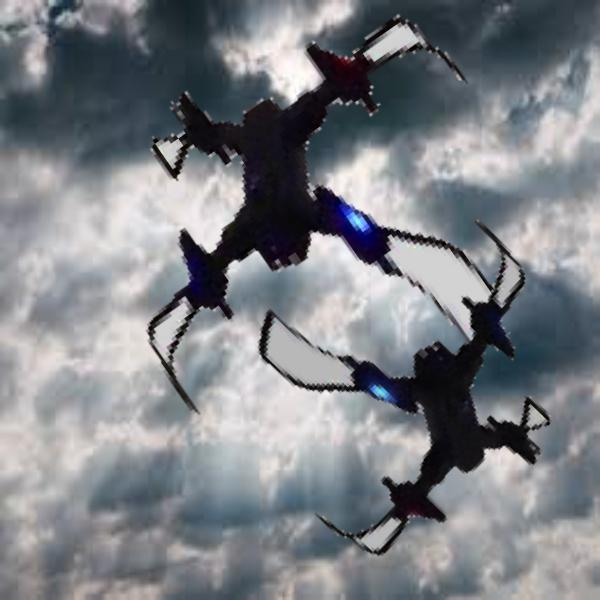drone: (101, 23, 546, 468), (231, 196, 580, 545)
